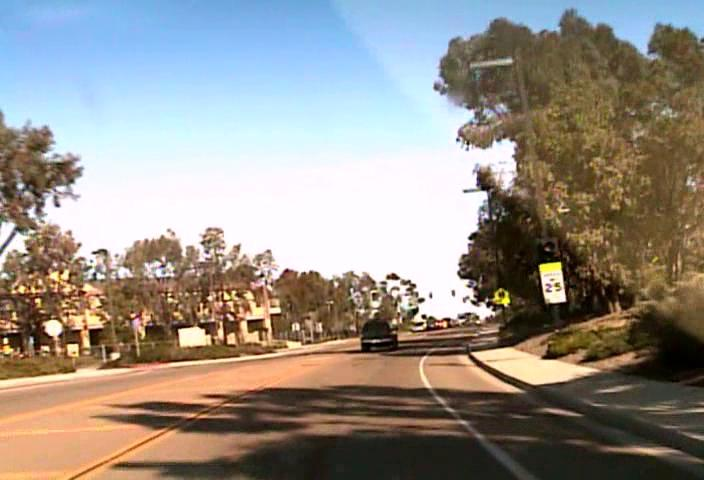schoolSpeedLimit25: (538, 261, 566, 304)
